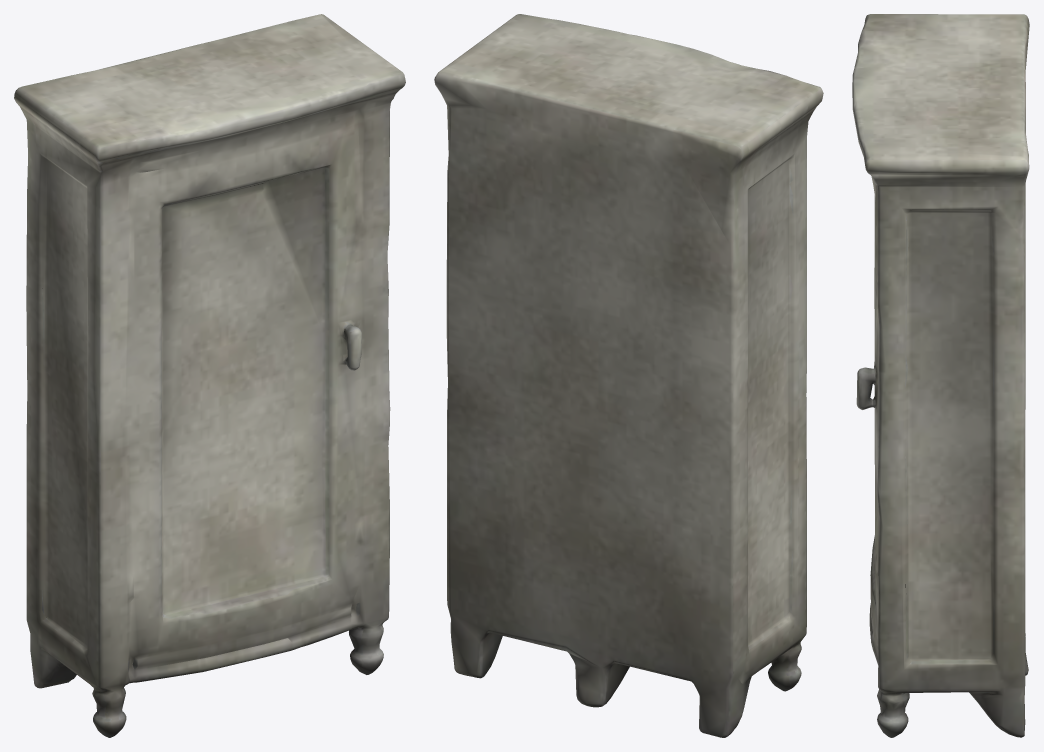
Rendered from sturdy-white-painted-medicine-cabinet-v001.glb.
3 views of the same model, side by side, from view 1: azimuth 30°, elevation 25°; view 2: azimuth 150°, elevation 25°; view 3: azimuth 270°, elevation 25° (orthographic). The views are drawn at different scales.
Visible parts, largest first — view 1: sturdy-white-painted-medicine-cabinet; view 2: sturdy-white-painted-medicine-cabinet; view 3: sturdy-white-painted-medicine-cabinet.
Boxes of the visible parts, left/top/right/bottom form: sturdy-white-painted-medicine-cabinet: left=14, top=14, right=405, bottom=737; sturdy-white-painted-medicine-cabinet: left=434, top=14, right=823, bottom=737; sturdy-white-painted-medicine-cabinet: left=852, top=14, right=1029, bottom=737.
Size of the model in its own units: 1.05 by 1.96 by 0.533.
1 material, 1 textured.
